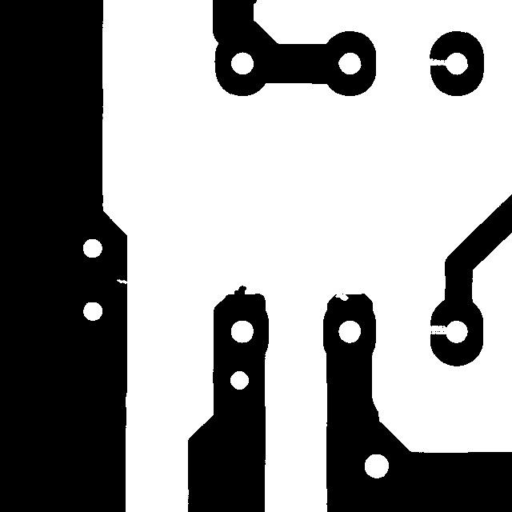mousebite: (327, 282, 356, 308), (109, 271, 137, 291)
open: (416, 318, 458, 342), (414, 50, 456, 73)
pin-hole: (222, 363, 256, 397)
spur: (226, 278, 254, 307)
